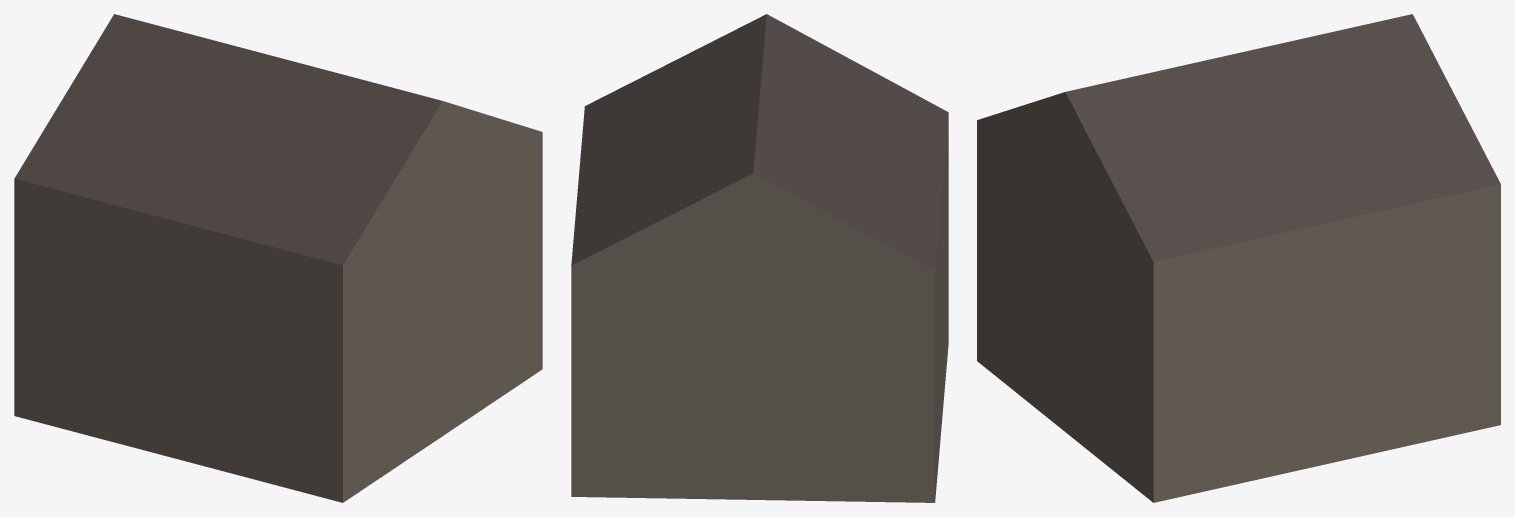
3 renders of one model, left to right at view 1: azimuth 30°, elevation 25°; view 2: azimuth 150°, elevation 25°; view 3: azimuth 270°, elevation 25°, orthographic. The views are drawn at different scales.
Visible parts, largest first — view 1: HP-w859086191; view 2: HP-w859086191; view 3: HP-w859086191.
Part boxes in pixels (left/top/right/bottom): HP-w859086191: left=14, top=14, right=542, bottom=502; HP-w859086191: left=571, top=14, right=948, bottom=502; HP-w859086191: left=977, top=14, right=1500, bottom=502.
Bounding box in the file's own units: 17.61 × 12.71 × 17.74.
